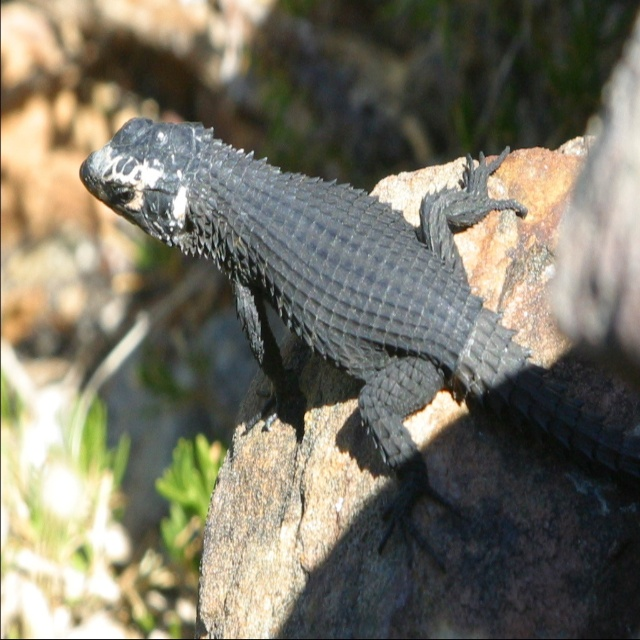Lizard: (52, 141, 636, 611)
